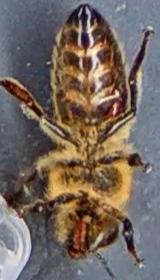varroa_mite: (104, 93, 128, 122)
